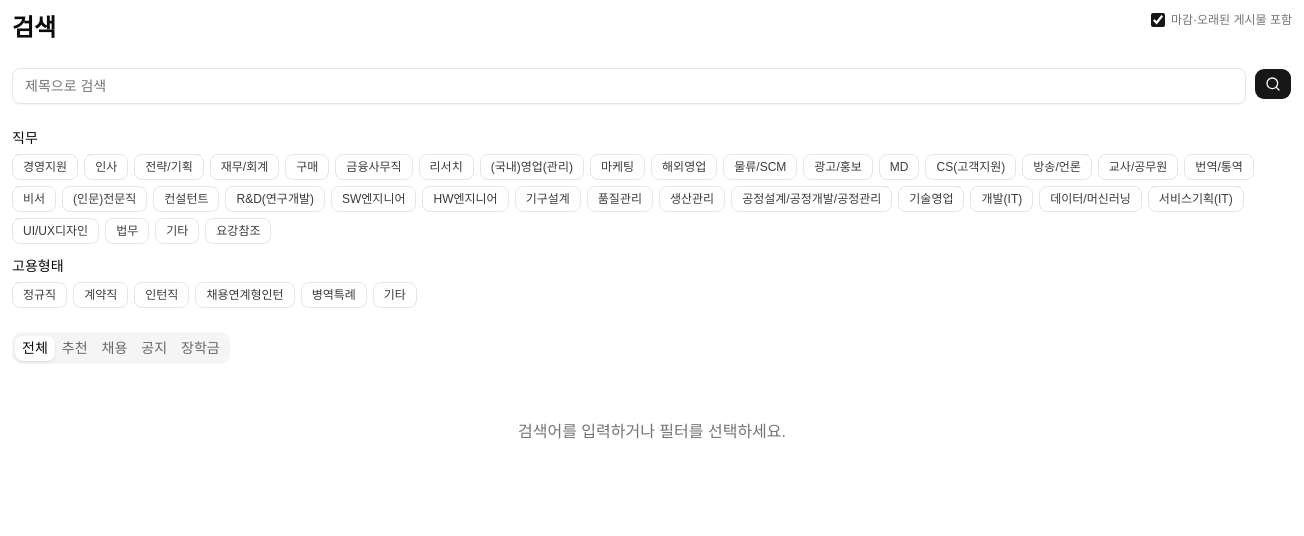
SearchPage › renders search results when items are returned
In the field with placeholder "제목으로 검색": (629, 86) top-left (12, 68), bottom-right (1246, 104), type "채용"
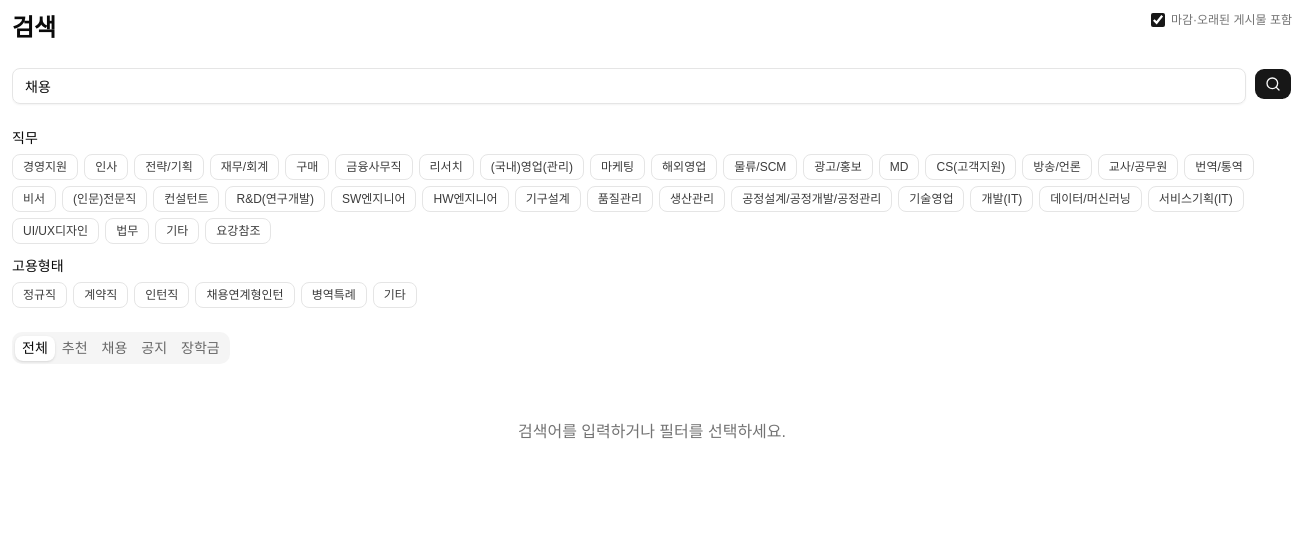
Press Enter in the field with placeholder "제목으로 검색", box top-left (12, 68), bottom-right (1246, 104)
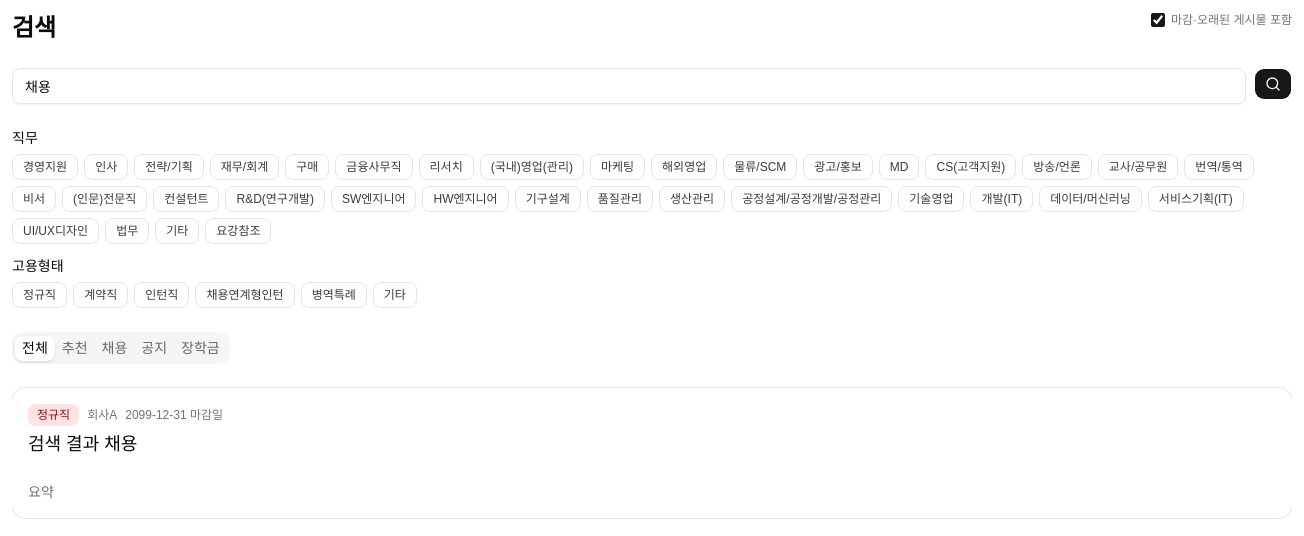
Check: the text "검색 결과 채용" is shown, box top-left (28, 434), bottom-right (137, 454)
